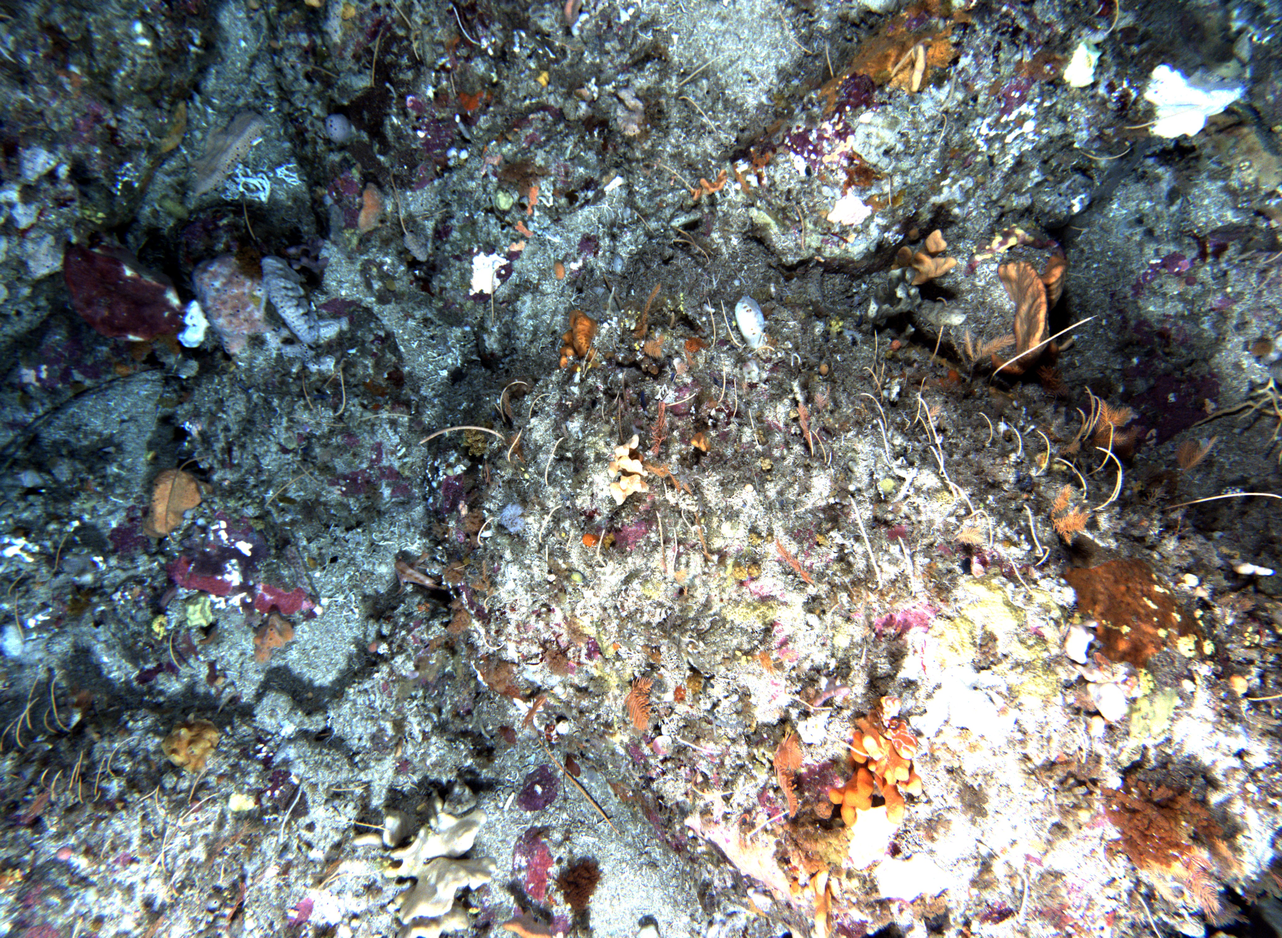Brachionichthyidae: (389, 551, 454, 596)
